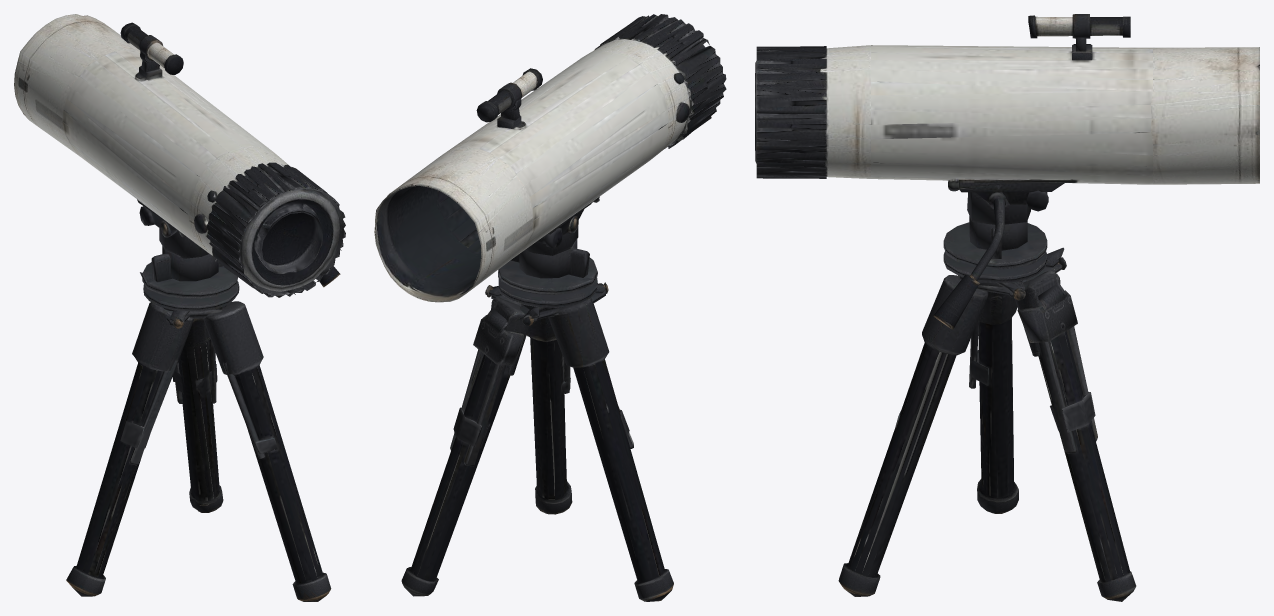
Rendered from office-telescope.glb.
3 renders of one model, left to right at view 1: azimuth 30°, elevation 25°; view 2: azimuth 150°, elevation 25°; view 3: azimuth 270°, elevation 25°, orthographic. The views are drawn at different scales.
Visible parts, largest first — view 1: telescope; view 2: telescope; view 3: telescope.
Part boxes in pixels (x1,y1,x2,y2): telescope: (14,14,345,601); telescope: (374,14,726,601); telescope: (755,14,1259,601).
Bounding box in the file's own units: 0.9162 × 1.8 × 1.5.
Materials: 1 (1 with a texture image).
